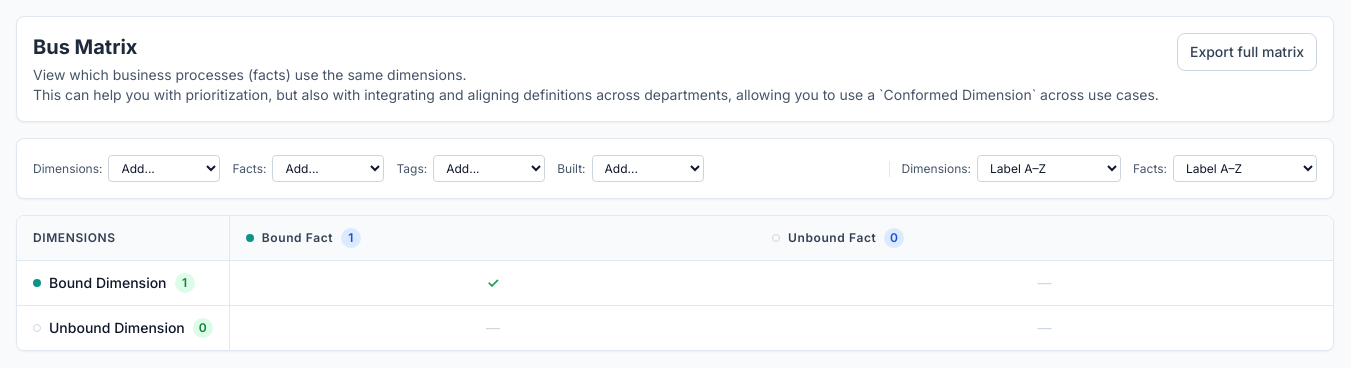
Scenario: BusMatrix — dbt build status badges › filtering to "Bound" only shows the bound dimension row and bound fact column
Expected: the table is shown, top-left (17, 216), bottom-right (1333, 350)
Select "Bound" in the dropdown with id "build-status-filter": {"x": 648, "y": 168} top-left (592, 155), bottom-right (704, 182)
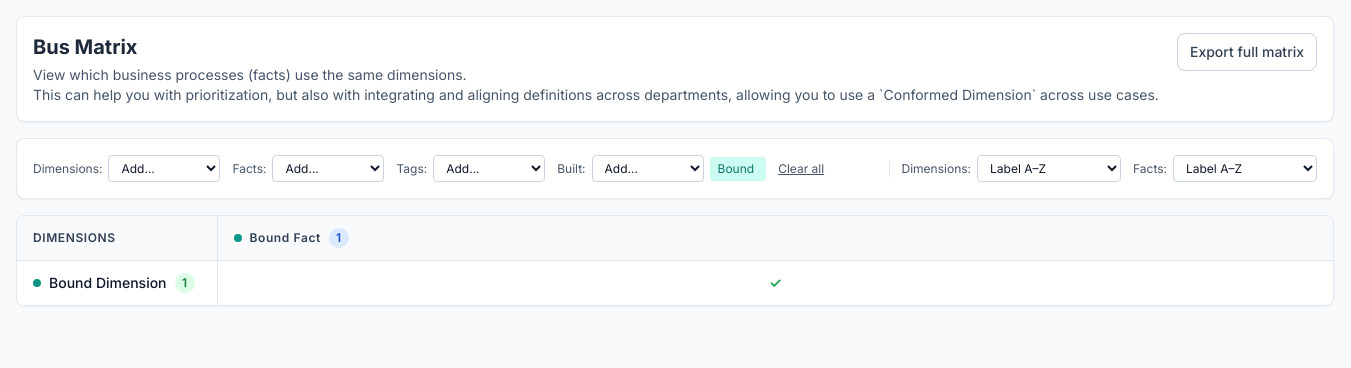
Expected: the table shows "Bound Dimension", top-left (49, 274), bottom-right (166, 291)
Expected: the text "Unbound Dimension" is gone
Expected: the text "Unbound Fact" is gone
